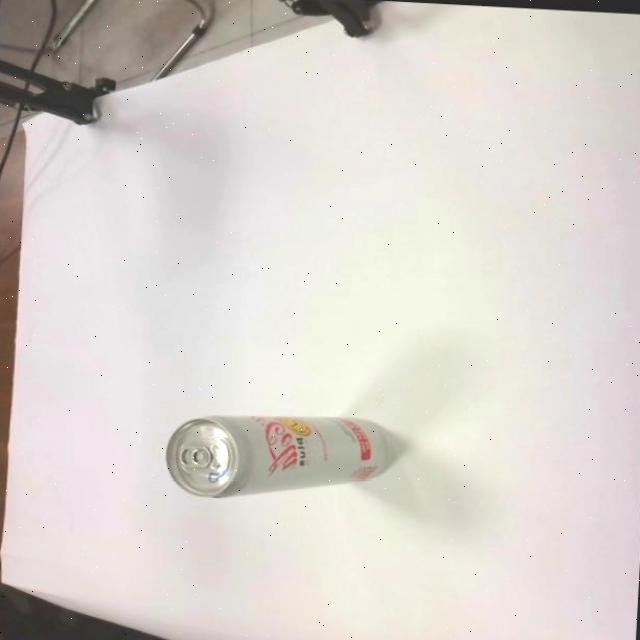debris: (160, 407, 410, 509)
